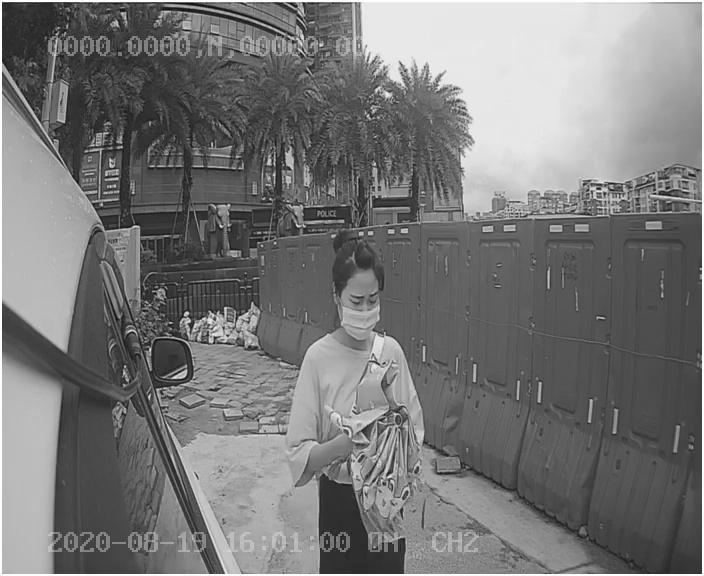person: (281, 219, 441, 530)
